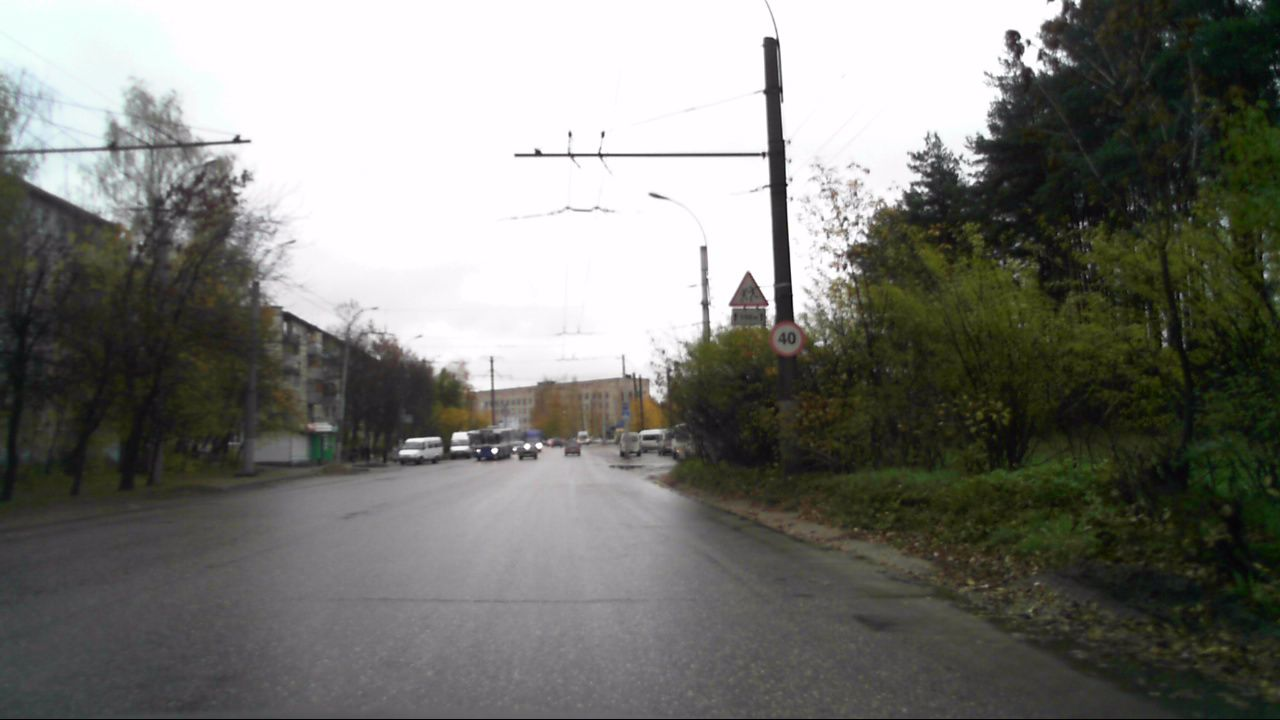speed_warning_40: (768, 321, 804, 358)
